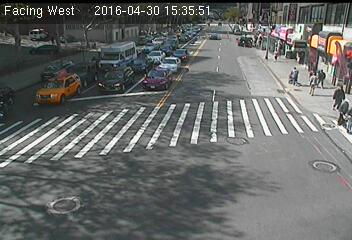neg: (203, 60, 218, 80), (87, 36, 101, 54), (207, 27, 220, 44), (238, 31, 251, 48), (225, 124, 238, 141), (74, 61, 86, 77), (296, 35, 307, 50), (5, 87, 15, 100), (43, 46, 53, 58)
pos: (329, 81, 350, 109), (304, 71, 324, 97), (336, 97, 351, 123), (285, 64, 302, 86), (315, 66, 332, 88)
